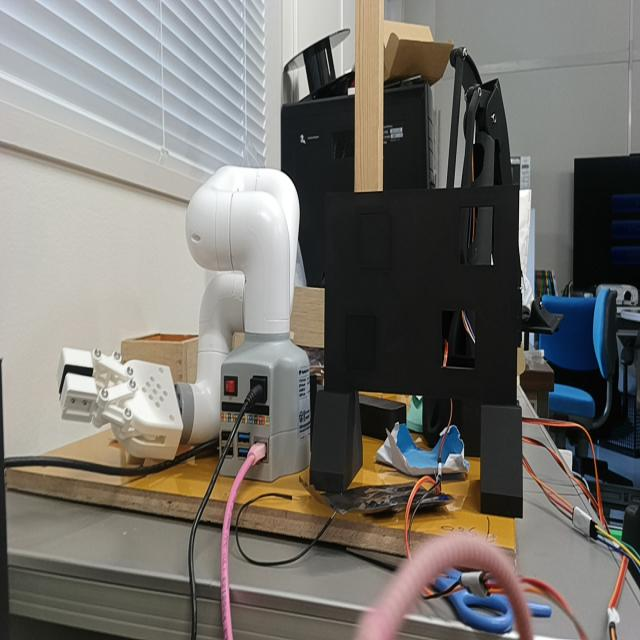Obstacle: (442, 312, 477, 367), (467, 206, 497, 268)
Wall: (324, 188, 519, 402)
